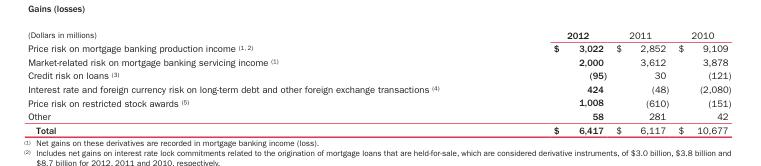table: (27, 28, 730, 135)
table column: (27, 28, 495, 135), (495, 28, 610, 135), (610, 28, 672, 135), (672, 28, 730, 135)
table column header: (27, 28, 730, 41)
table row: (27, 54, 730, 68), (27, 81, 730, 95), (27, 108, 730, 122), (27, 28, 730, 41), (27, 41, 730, 54), (27, 68, 730, 81), (27, 95, 730, 108), (27, 122, 730, 135)
